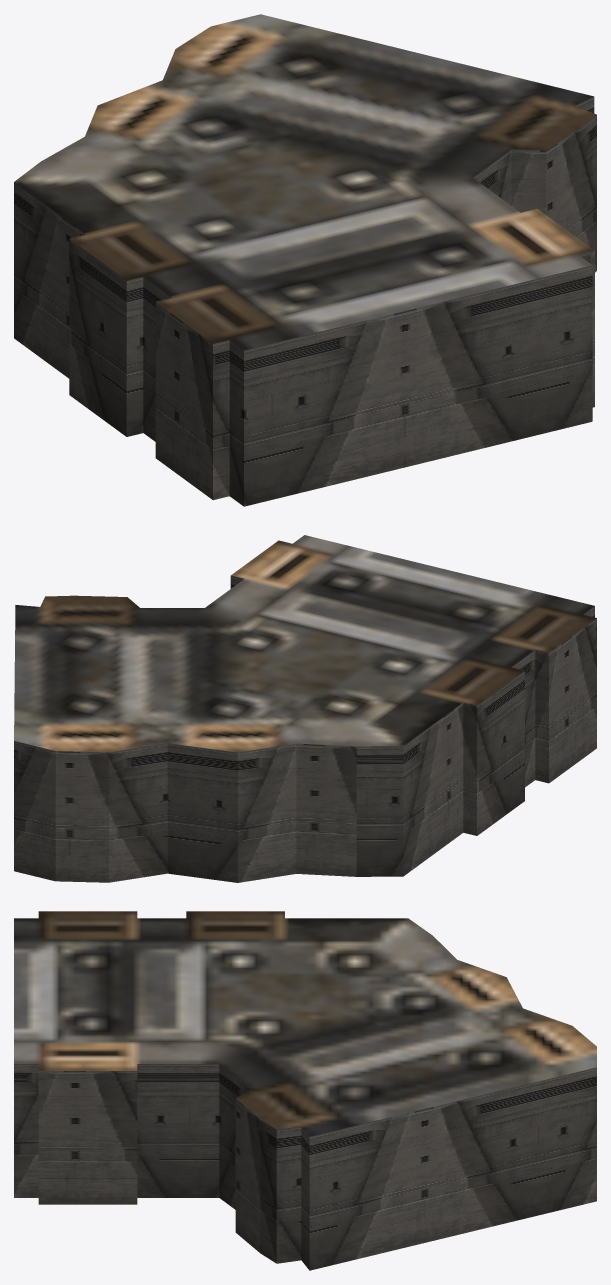
Rendered from fortress_heavy_a_10.glb.
The picture shows the model from 3 angles, top to bottom: view 1: azimuth 30°, elevation 25°; view 2: azimuth 150°, elevation 25°; view 3: azimuth 270°, elevation 25°; orthographic projection. The views are drawn at different scales.
Parts seen in each view (by area): view 1: buildings/saxarba/fortress_heavy/fortress_heavy_a_10; view 2: buildings/saxarba/fortress_heavy/fortress_heavy_a_10; view 3: buildings/saxarba/fortress_heavy/fortress_heavy_a_10.
Boxes of the visible parts, x1,y1,x2,y2 form: buildings/saxarba/fortress_heavy/fortress_heavy_a_10: (14,14,596,506); buildings/saxarba/fortress_heavy/fortress_heavy_a_10: (14,535,596,882); buildings/saxarba/fortress_heavy/fortress_heavy_a_10: (14,911,596,1270).
Size of the model in its own units: 65 by 18 by 71.
